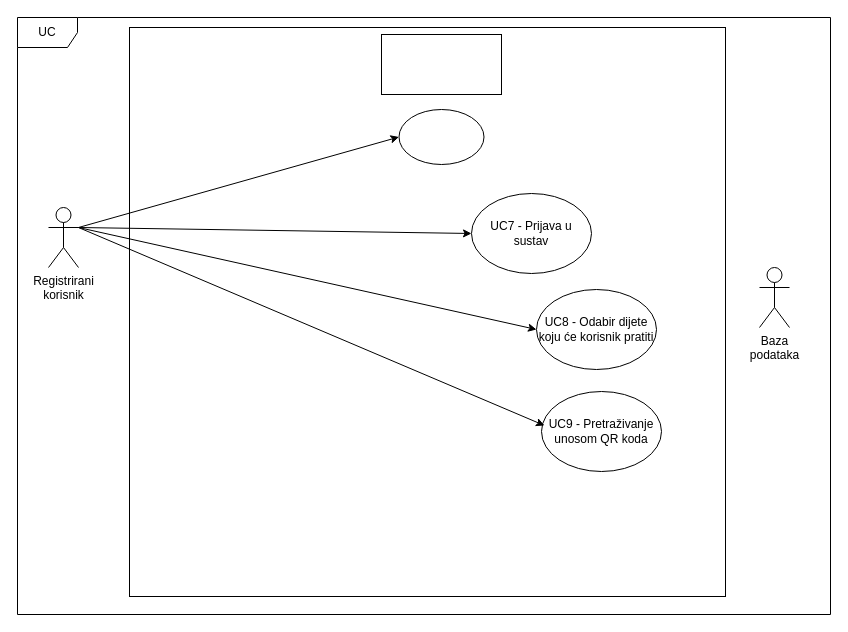
The diagram is 848 pixels wide and 632 high, and some of its shapes have lost their labels. The box of each missing label's shape, as (x1, y1, x2, y2) in pixels:
Funkcionalnosti registriranog korisnika: (380, 34, 502, 94)
UC25 - Komentiranje: (398, 108, 484, 164)
